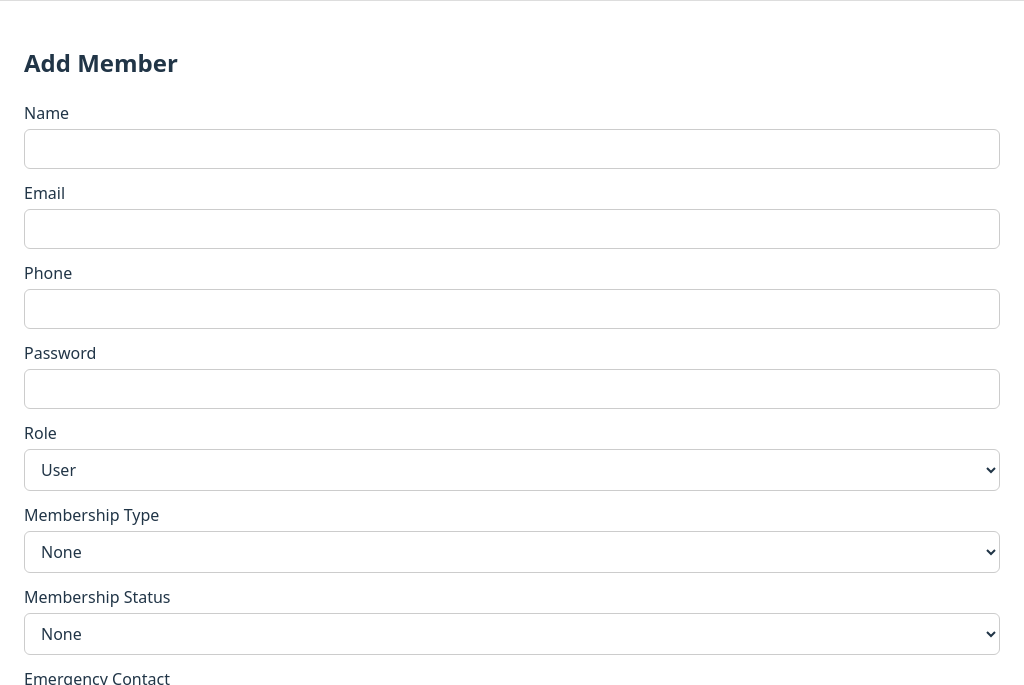
AddMemberPage › shows error on create failure
Type "Dup User" into the field labelled "Name" at (512, 149), box [24,129,1000,169]
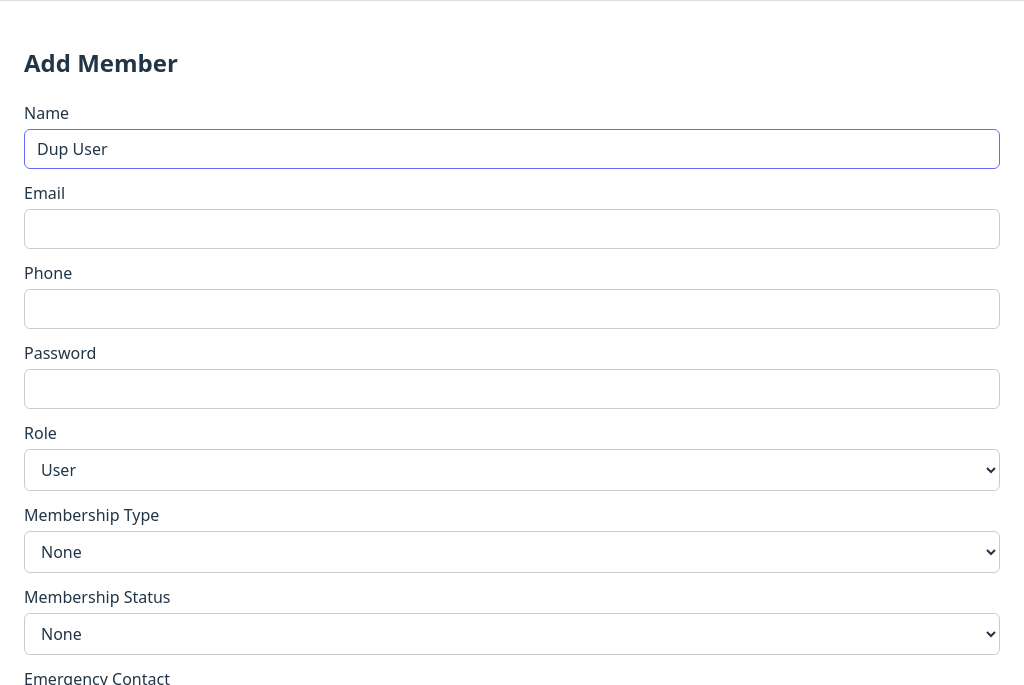
Type "existing@test.com" into the field labelled "Email" at (512, 229), box [24,209,1000,249]
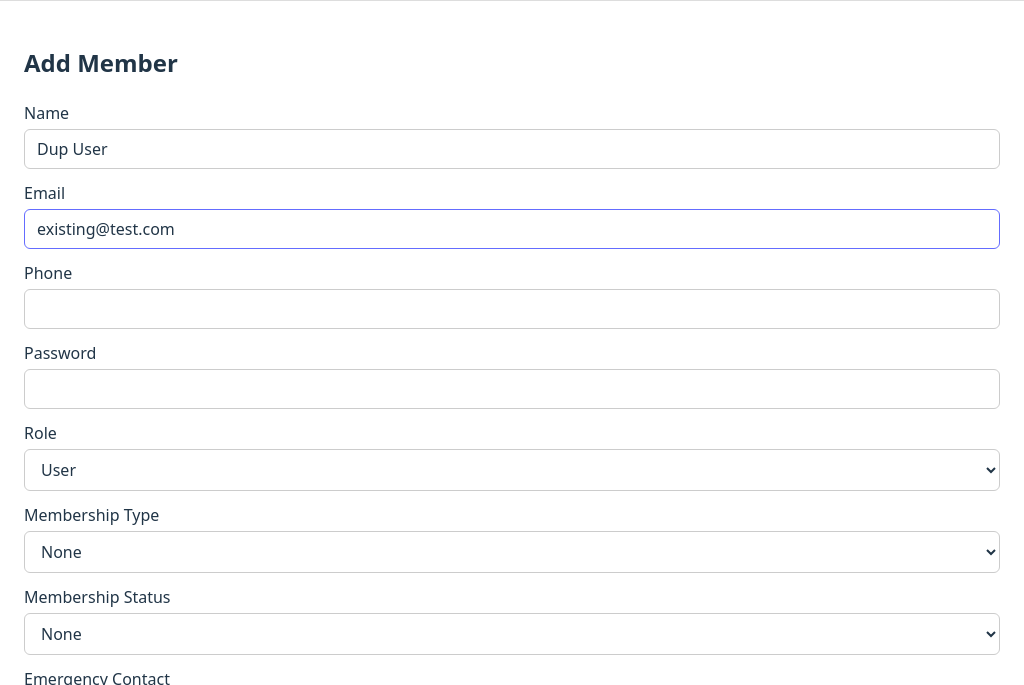
Type "555-0600" into the field labelled "Phone" at (512, 309), box [24,289,1000,329]
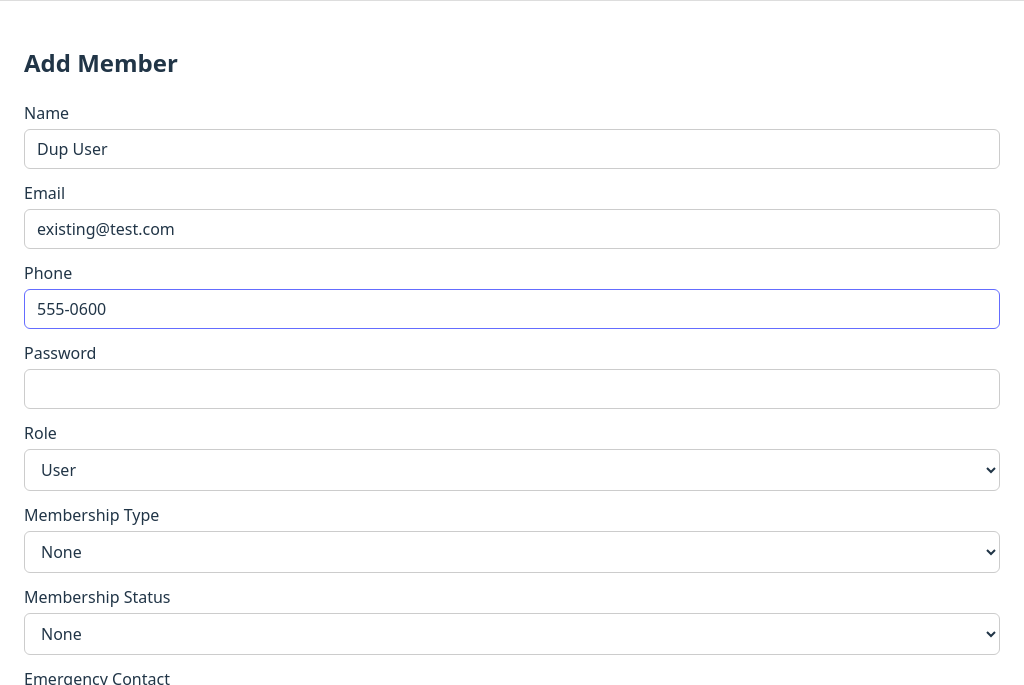
Type "password123" into the password field labelled "Password" at (512, 389), box [24,369,1000,409]
(page scrolled)
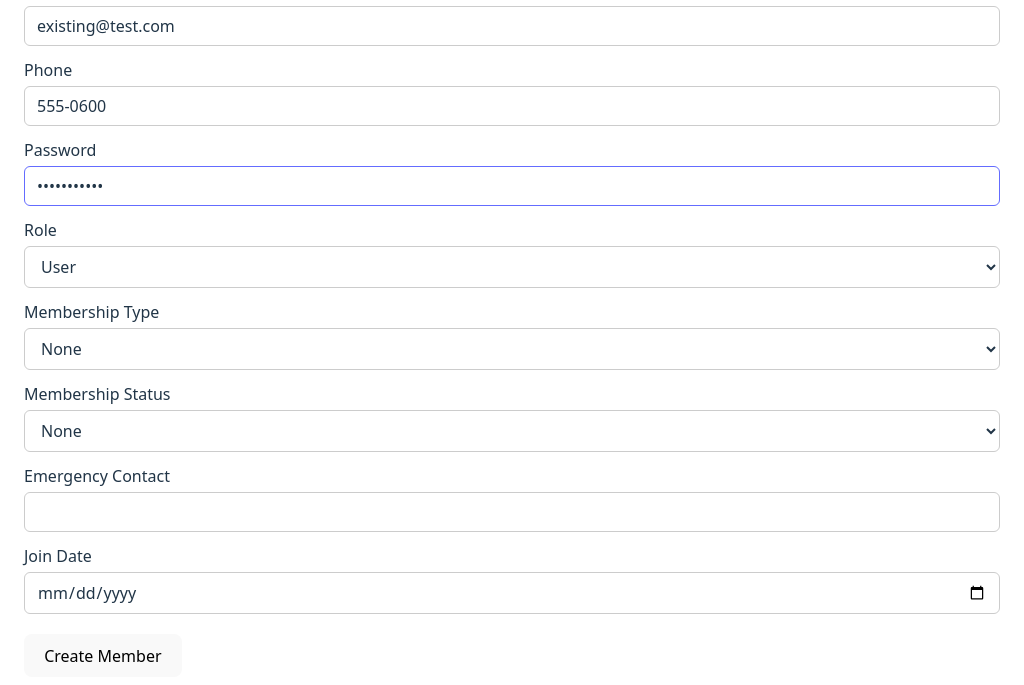
Click the button "Create Member" at (103, 656), box [24,634,182,677]
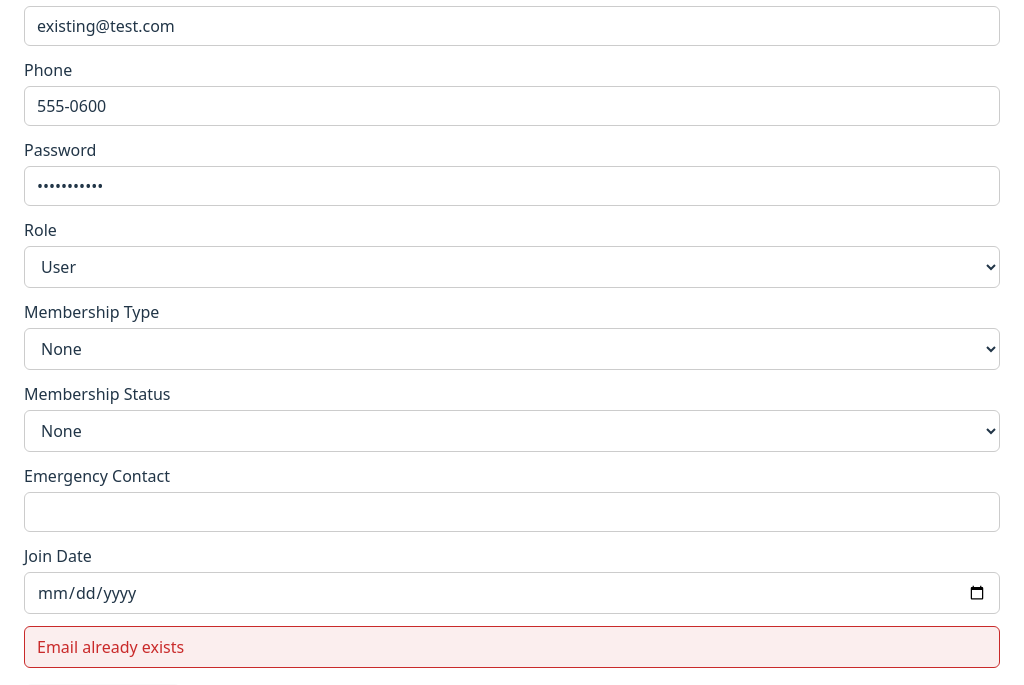
Now the message reads "Email already exists", box [37,636,184,658]
